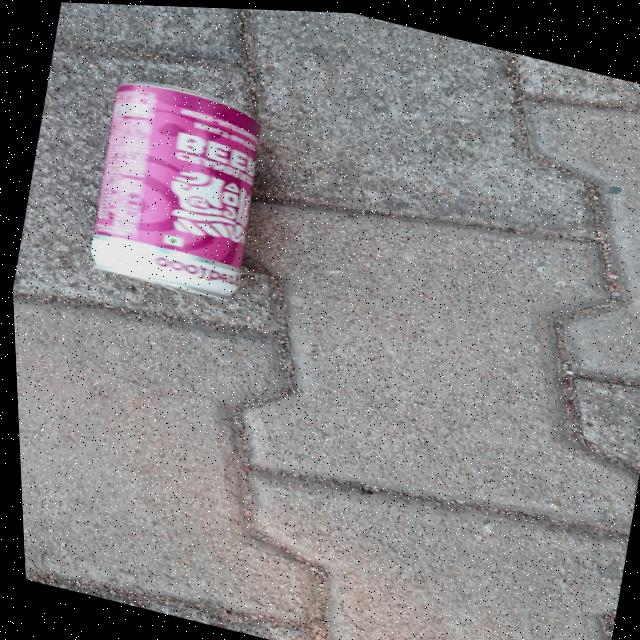Coolberg: (82, 75, 277, 305)
